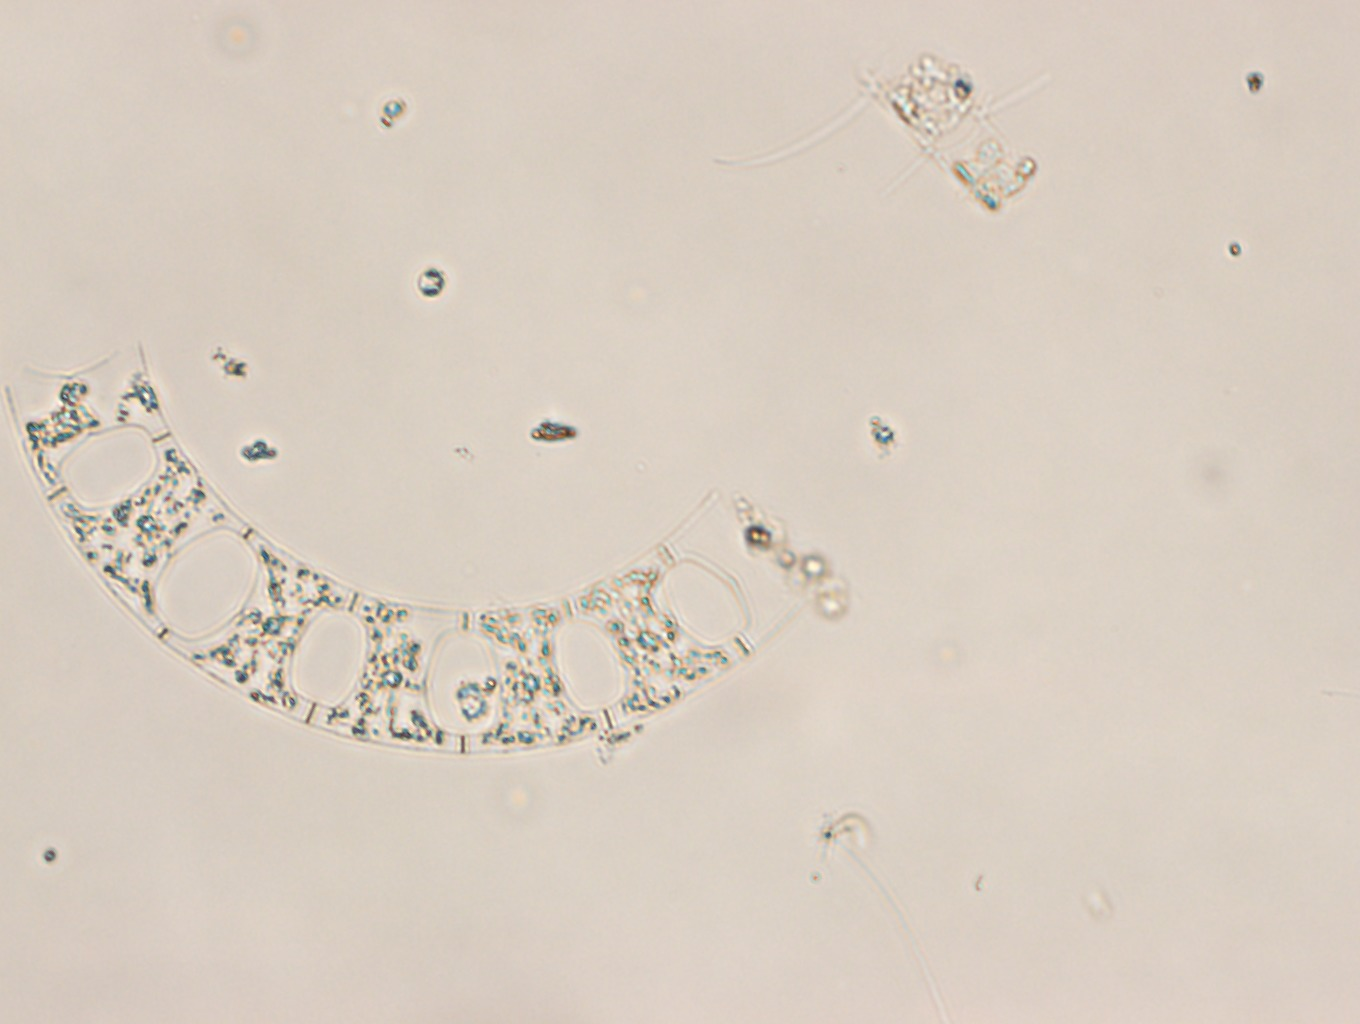chaetoceros: (711, 46, 1094, 214)
eucampia: (8, 350, 819, 776)
